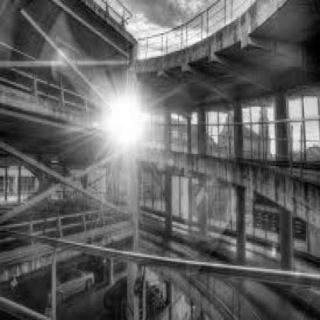other: (88, 80, 155, 148), (195, 177, 227, 236), (127, 176, 147, 230), (49, 37, 73, 76)
